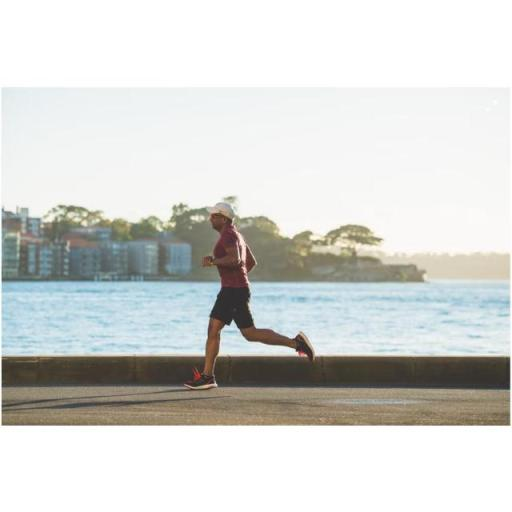Running: (177, 193, 323, 395)
